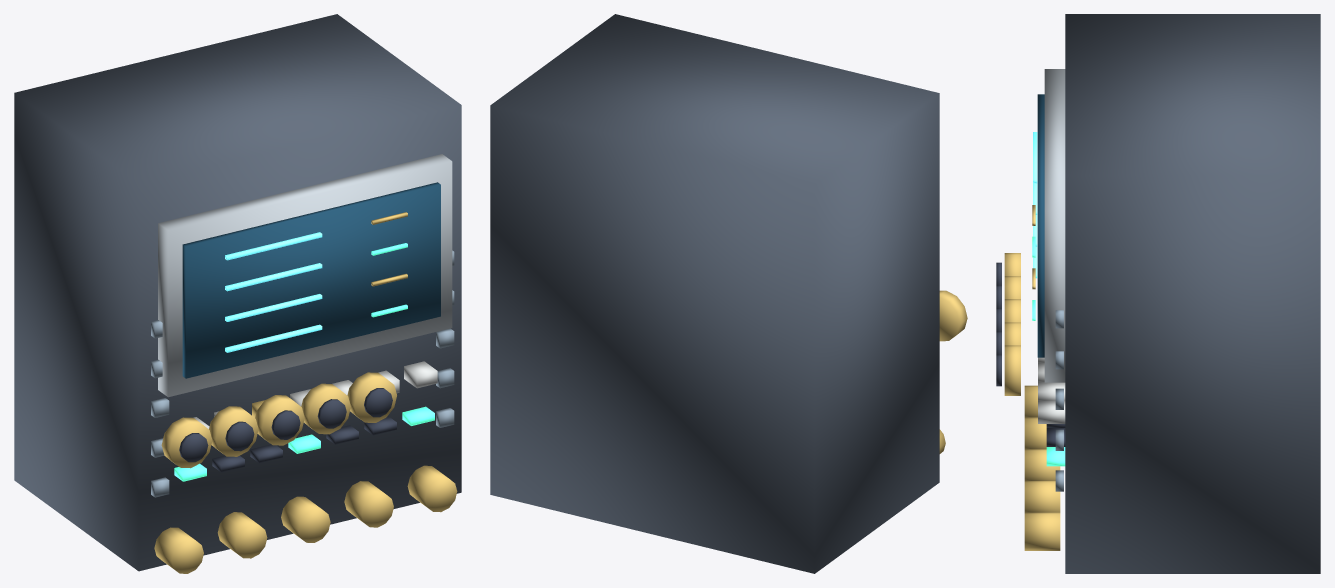
Rendered from 32_L86_RobotJointPathPlanningComputer.glb.
The picture shows the model from 3 angles, left to right: view 1: azimuth 30°, elevation 25°; view 2: azimuth 150°, elevation 25°; view 3: azimuth 270°, elevation 25°; orthographic projection. The views are drawn at different scales.
Visible parts, largest first — view 1: L86_RobotJointPathPlanningCom_Part_0000, L86_RobotJointPathPlanningCom_Part_0002, L86_RobotJointPathPlanningCom_Part_0001, L86_RobotJointPathPlanningCom_Part_0004, L86_RobotJointPathPlanningCom_Part_0003, L86_RobotJointPathPlanningCom_Part_0008, L86_RobotJointPathPlanningCom_Part_0005, L86_RobotJointPathPlanningCom_Part_0007, L86_RobotJointPathPlanningCom_Part_0009, L86_RobotJointPathPlanningCom_Part_0006, L86_RobotJointPathPlanningCom_Part_0015, L86_RobotJointPathPlanningCom_Part_0017 (+7 smaller); view 2: L86_RobotJointPathPlanningCom_Part_0000, L86_RobotJointPathPlanningCom_Part_0009; view 3: L86_RobotJointPathPlanningCom_Part_0000, L86_RobotJointPathPlanningCom_Part_0001, L86_RobotJointPathPlanningCom_Part_0004, L86_RobotJointPathPlanningCom_Part_0002, L86_RobotJointPathPlanningCom_Part_0006, L86_RobotJointPathPlanningCom_Part_0008, L86_RobotJointPathPlanningCom_Part_0017, L86_RobotJointPathPlanningCom_Part_0003, L86_RobotJointPathPlanningCom_Part_0005.
Part boxes in pixels (bbox=[...]): L86_RobotJointPathPlanningCom_Part_0000: bbox=[14, 14, 461, 571]; L86_RobotJointPathPlanningCom_Part_0002: bbox=[182, 182, 440, 378]; L86_RobotJointPathPlanningCom_Part_0001: bbox=[158, 154, 452, 397]; L86_RobotJointPathPlanningCom_Part_0004: bbox=[154, 212, 457, 573]; L86_RobotJointPathPlanningCom_Part_0003: bbox=[225, 232, 322, 352]; L86_RobotJointPathPlanningCom_Part_0008: bbox=[151, 250, 454, 497]; L86_RobotJointPathPlanningCom_Part_0005: bbox=[174, 243, 434, 481]; L86_RobotJointPathPlanningCom_Part_0007: bbox=[212, 416, 396, 472]; L86_RobotJointPathPlanningCom_Part_0009: bbox=[161, 417, 212, 468]; L86_RobotJointPathPlanningCom_Part_0006: bbox=[193, 361, 437, 428]; L86_RobotJointPathPlanningCom_Part_0015: bbox=[301, 383, 350, 434]; L86_RobotJointPathPlanningCom_Part_0017: bbox=[347, 372, 396, 422]; L86_RobotJointPathPlanningCom_Part_0000: bbox=[490, 14, 939, 573]; L86_RobotJointPathPlanningCom_Part_0009: bbox=[939, 290, 967, 341]; L86_RobotJointPathPlanningCom_Part_0000: bbox=[1065, 14, 1320, 573]; L86_RobotJointPathPlanningCom_Part_0001: bbox=[1044, 69, 1065, 382]; L86_RobotJointPathPlanningCom_Part_0004: bbox=[1024, 205, 1060, 550]; L86_RobotJointPathPlanningCom_Part_0002: bbox=[1037, 94, 1044, 357]; L86_RobotJointPathPlanningCom_Part_0006: bbox=[1038, 357, 1065, 423]; L86_RobotJointPathPlanningCom_Part_0008: bbox=[1055, 310, 1063, 491]; L86_RobotJointPathPlanningCom_Part_0017: bbox=[1004, 345, 1020, 395]; L86_RobotJointPathPlanningCom_Part_0003: bbox=[1033, 132, 1037, 278]; L86_RobotJointPathPlanningCom_Part_0005: bbox=[1032, 236, 1065, 466].
Bounding box in the file's own units: 0.9792 × 1.12 × 0.8284.
